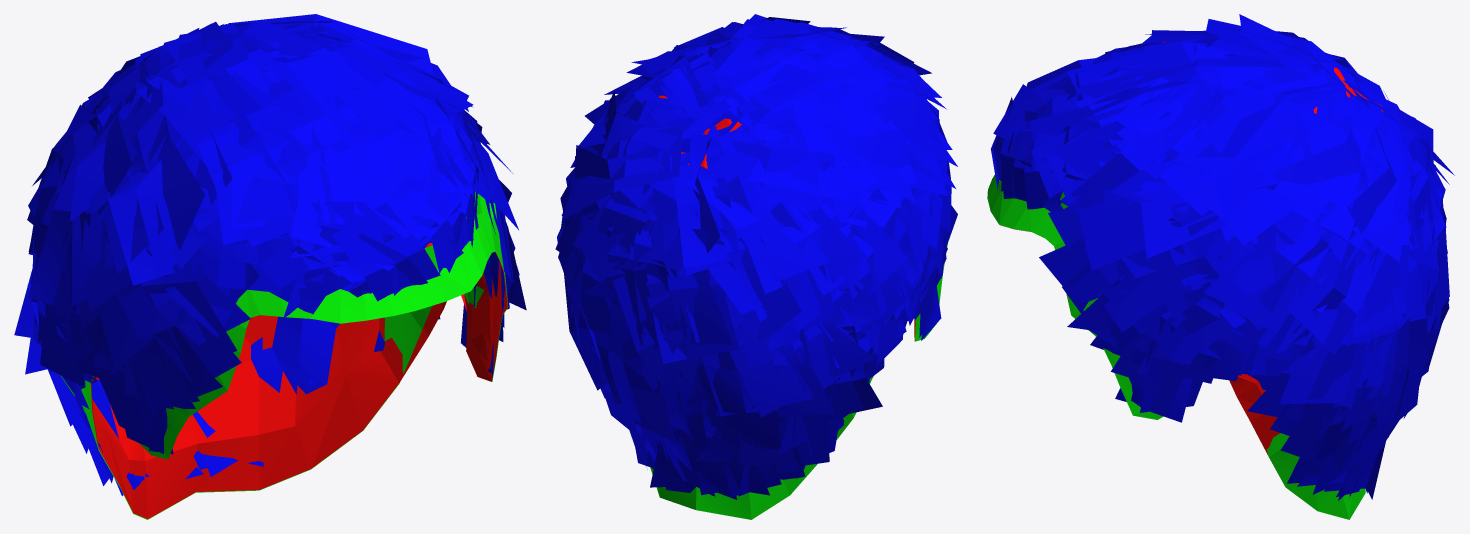
File: hair_010.obj
3 views of the same model, side by side, from view 1: azimuth 30°, elevation 25°; view 2: azimuth 150°, elevation 25°; view 3: azimuth 270°, elevation 25° (orthographic). The views are drawn at different scales.
Size of the model in its own units: 18.85 by 21.87 by 20.45.
